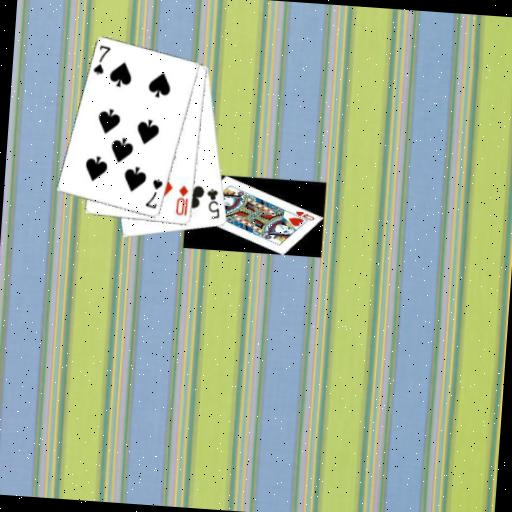10D: (173, 182, 191, 218)
5C: (202, 186, 223, 221)
7S: (91, 42, 113, 78), (143, 176, 165, 211)
